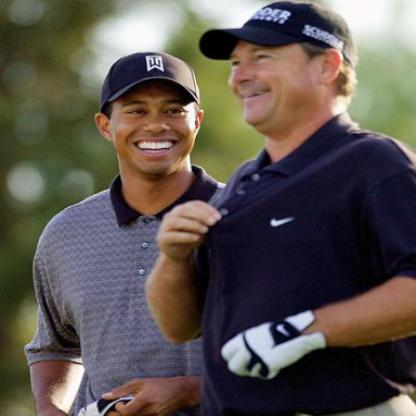face: (213, 3, 325, 129), (110, 56, 201, 176)
